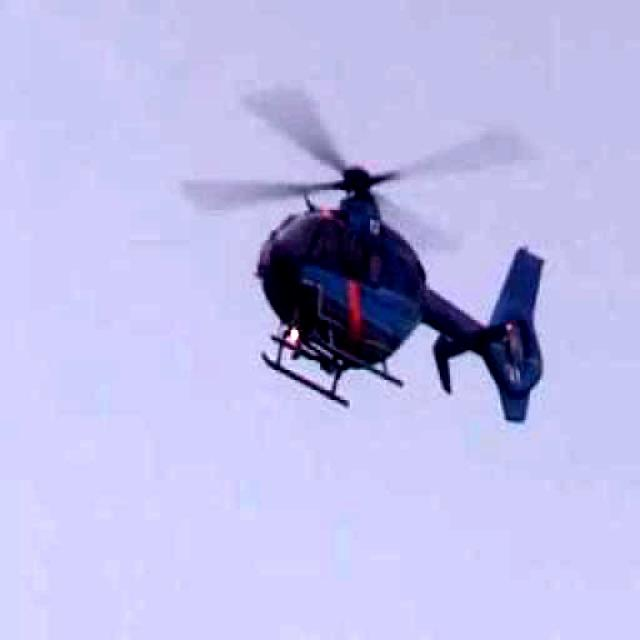drone: (142, 34, 594, 460)
